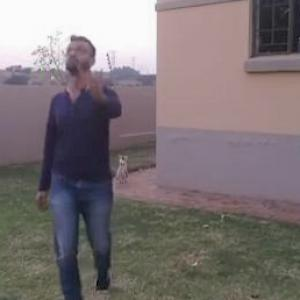takeoff-hand: (86, 68, 115, 103)
